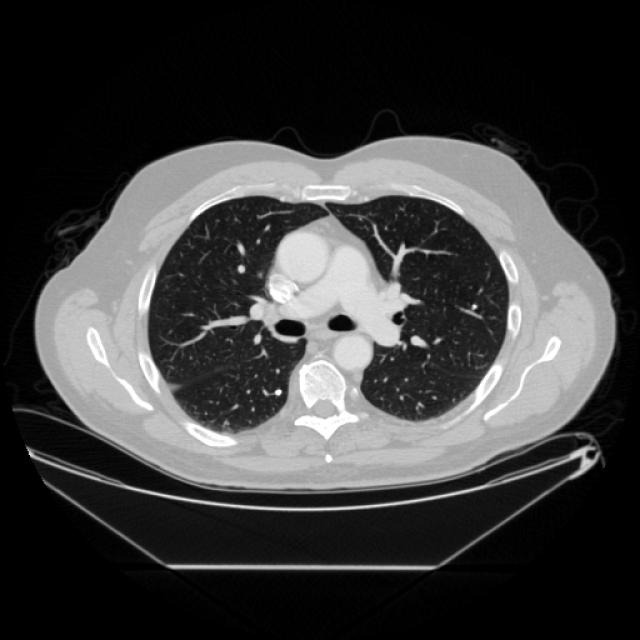nodule: (267, 382, 285, 400)
